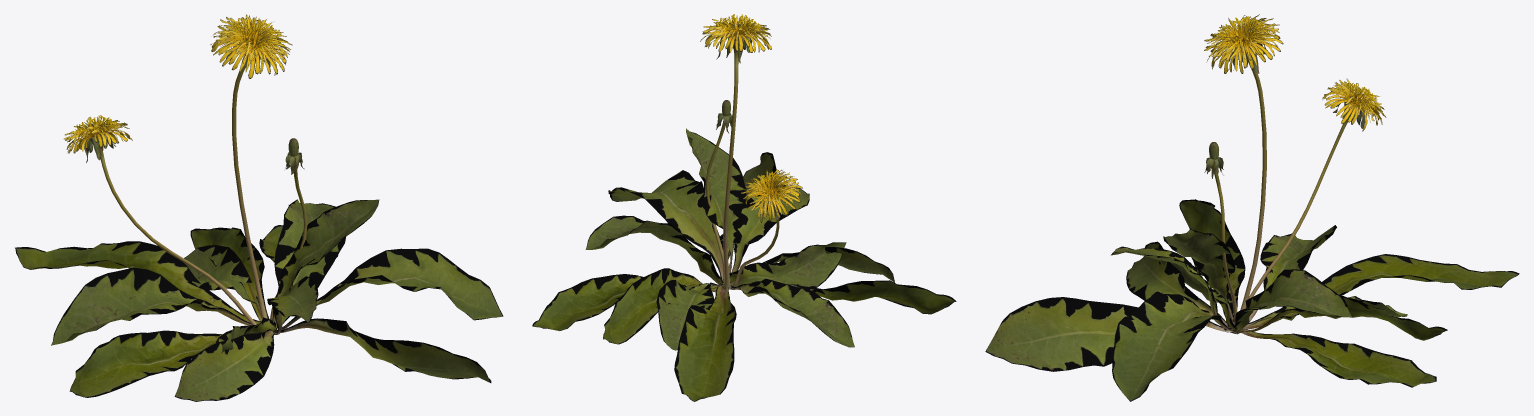
The picture shows the model from 3 angles, left to right: view 1: azimuth 30°, elevation 25°; view 2: azimuth 150°, elevation 25°; view 3: azimuth 270°, elevation 25°; orthographic projection. The views are drawn at different scales.
Visible parts, largest first — view 1: dandelion_01_a_LOD0; view 2: dandelion_01_a_LOD0; view 3: dandelion_01_a_LOD0.
Boxes of the visible parts, x1=… form: dandelion_01_a_LOD0: x1=15, y1=14, x2=503, y2=401; dandelion_01_a_LOD0: x1=532, y1=14, x2=956, y2=401; dandelion_01_a_LOD0: x1=985, y1=14, x2=1519, y2=401.
Bounding box in the file's own units: 0.2204 × 0.1642 × 0.2577.
Materials: 1 (1 with a texture image).
